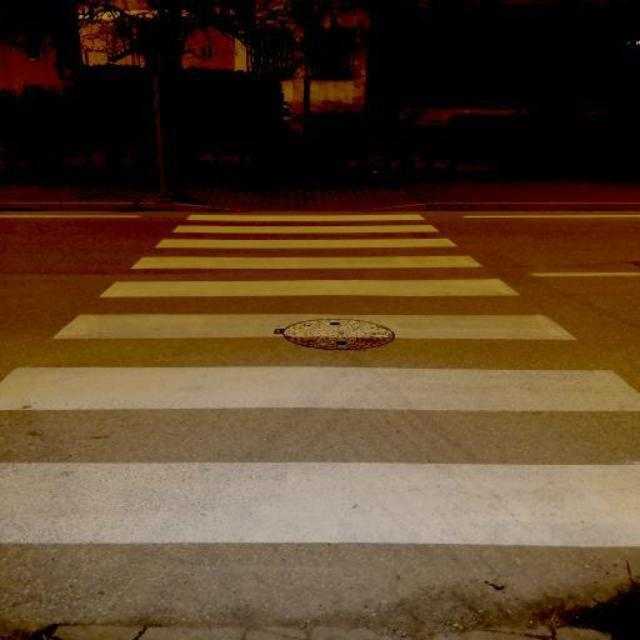sidewalk: (0, 205, 640, 640)
